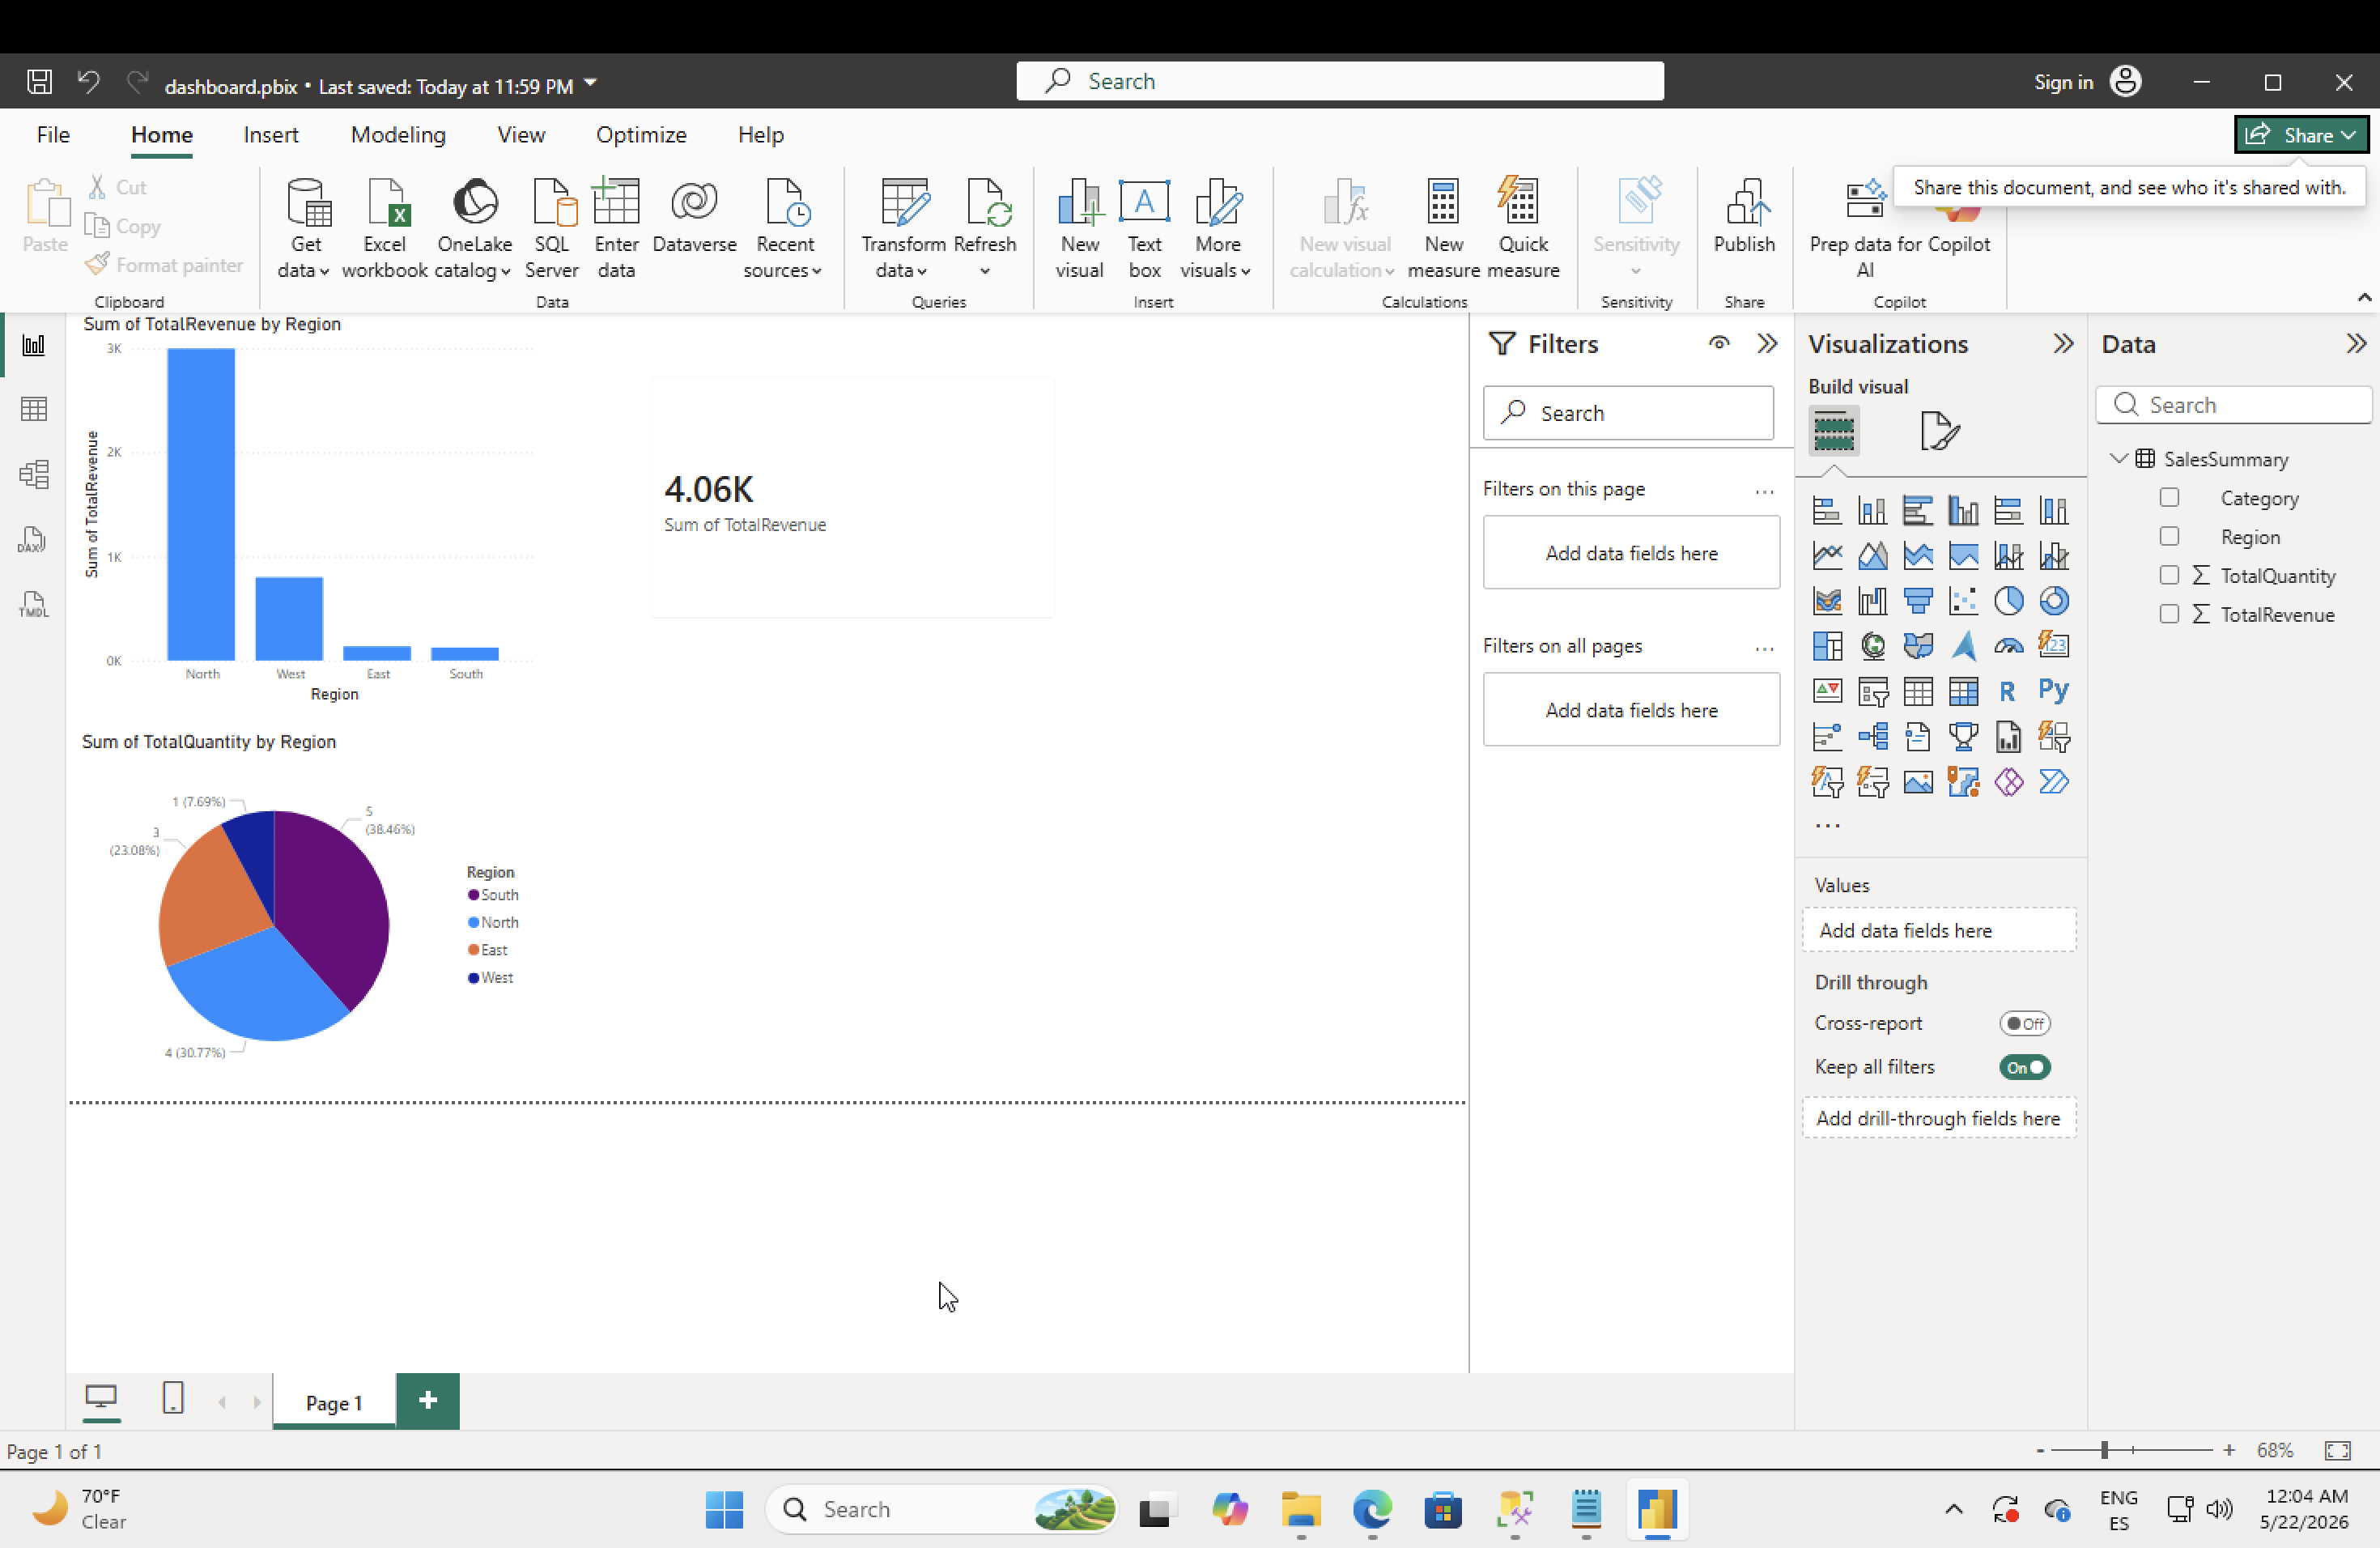

This screenshot's page, from the dashboard's own definition file:
{"tool":"powerbi","page":{"name":"Page 1","canvas":[1280,720],"ordinal":0},"visuals":[{"type":"clusteredColumnChart","fields":{"Category":["SalesSummary.Region"],"Y":["Sum(SalesSummary.TotalRevenue)"]},"box":[10.3,0,424.2,360.6],"z":0},{"type":"pieChart","fields":{"Category":["SalesSummary.Region"],"Y":["Sum(SalesSummary.TotalQuantity)"]},"box":[8.9,381.3,425.7,338.5],"z":1},{"type":"cardVisual","fields":{"Data":["Sum(SalesSummary.TotalRevenue)"]},"box":[515.8,41.4,405,255.7],"z":2}]}

Visuals, with their boxes on the page's 1280x720 design canvas (x1, y1, x2, y2). These are canvas units, not pixel positions in the 2380x1548 screenshot, which may show the page scaled, cropped or inside an application window:
clusteredColumnChart - SalesSummary.Region x Sum(SalesSummary.TotalRevenue): box(10, 0, 434, 361)
pieChart - SalesSummary.Region x Sum(SalesSummary.TotalQuantity): box(9, 381, 435, 720)
cardVisual - Sum(SalesSummary.TotalRevenue): box(516, 41, 921, 297)
